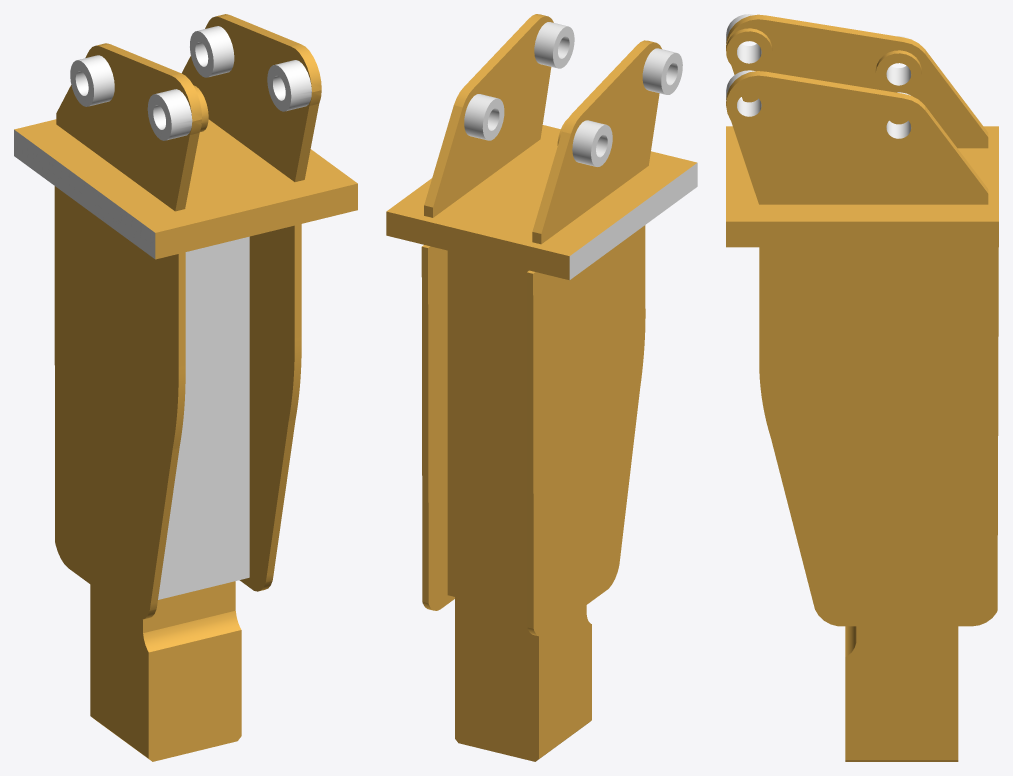
Rendered from Hammer1.fbx.
The picture shows the model from 3 angles, left to right: view 1: azimuth 30°, elevation 25°; view 2: azimuth 150°, elevation 25°; view 3: azimuth 270°, elevation 25°; orthographic projection. The views are drawn at different scales.
Parts seen in each view (by area): view 1: Group2, Group4, Group1, Group3; view 2: Group2, Group4, Group1, Group3; view 3: Group3, Group2, Group1.
Part boxes in pixels (x1,y1,x2,y2): Group2: [56, 14, 321, 761]; Group4: [54, 186, 185, 619]; Group1: [14, 119, 357, 259]; Group3: [239, 224, 301, 591]; Group2: [386, 14, 682, 761]; Group4: [527, 225, 645, 636]; Group1: [386, 125, 697, 279]; Group3: [421, 245, 454, 610]; Group3: [759, 247, 998, 626]; Group2: [726, 14, 998, 761]; Group1: [726, 126, 998, 221].
Size of the model in its own units: 28.45 by 96.97 by 34.39.
